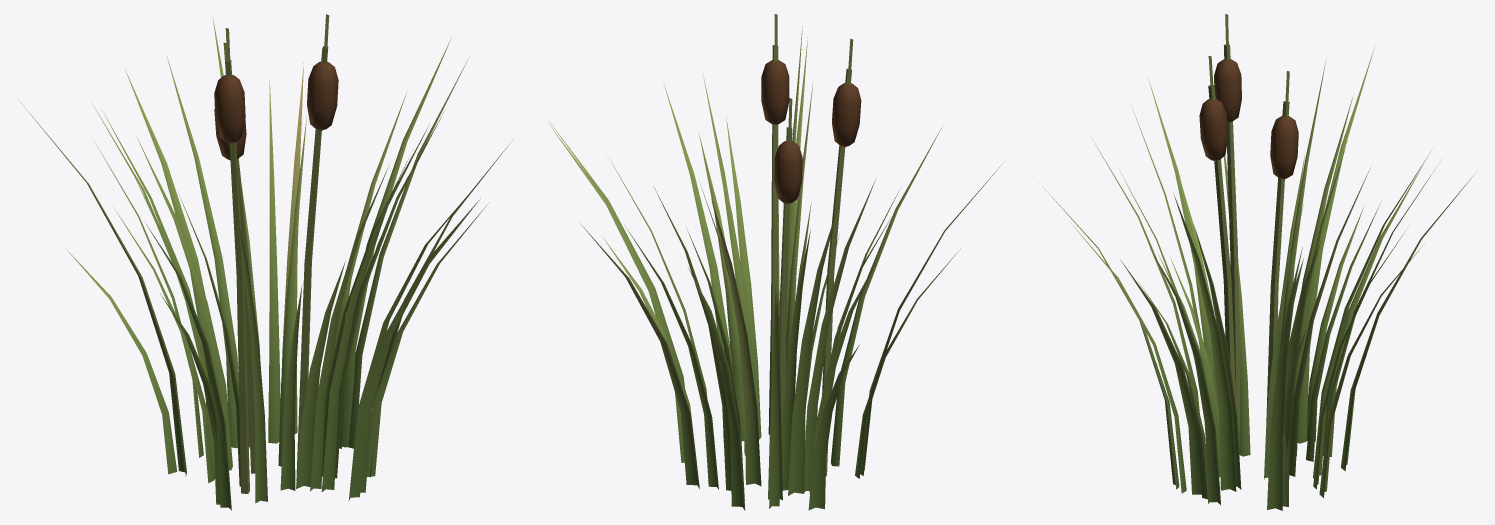
File: reeds-a.glb
3 renders of one model, left to right at view 1: azimuth 30°, elevation 25°; view 2: azimuth 150°, elevation 25°; view 3: azimuth 270°, elevation 25°, orthographic. The views are drawn at different scales.
Visible parts, largest first — view 1: reeds-a; view 2: reeds-a; view 3: reeds-a.
Boxes of the visible parts, <box> form: reeds-a: <box>21,14,512,510</box>; reeds-a: <box>548,14,1003,510</box>; reeds-a: <box>1039,14,1474,510</box>.
Bounding box in the file's own units: 1.33 × 1.45 × 1.36.
